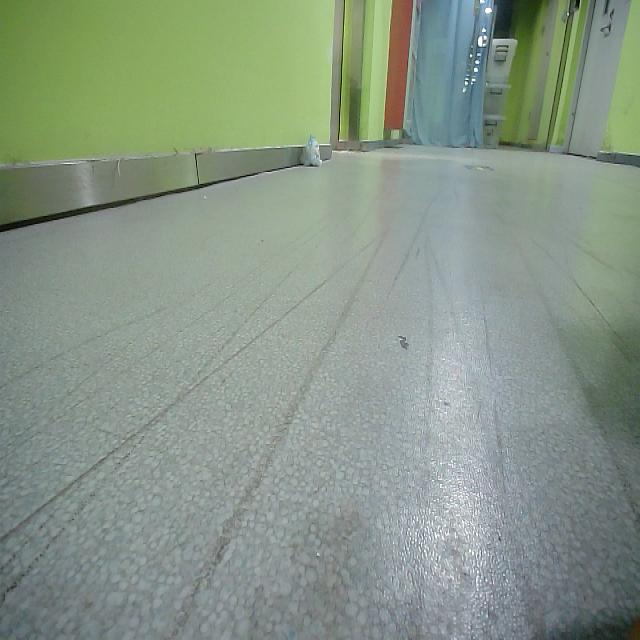xiaoba: (303, 133, 327, 171)
